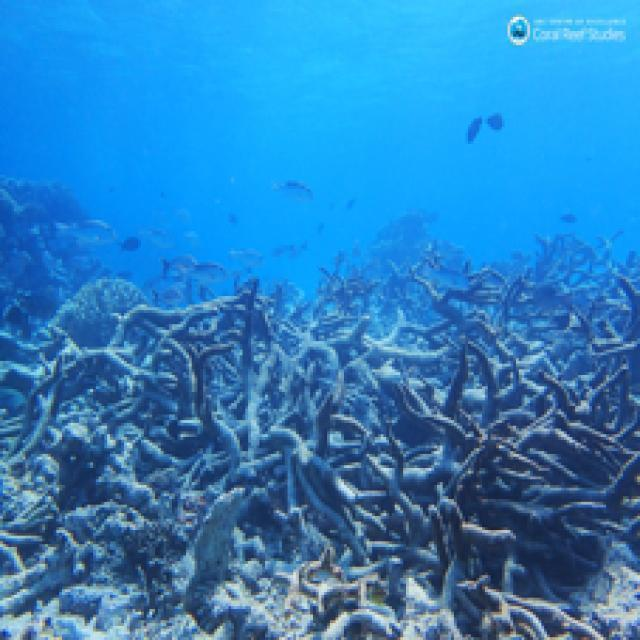Dead Coral: (9, 258, 292, 588), (383, 337, 640, 640)
